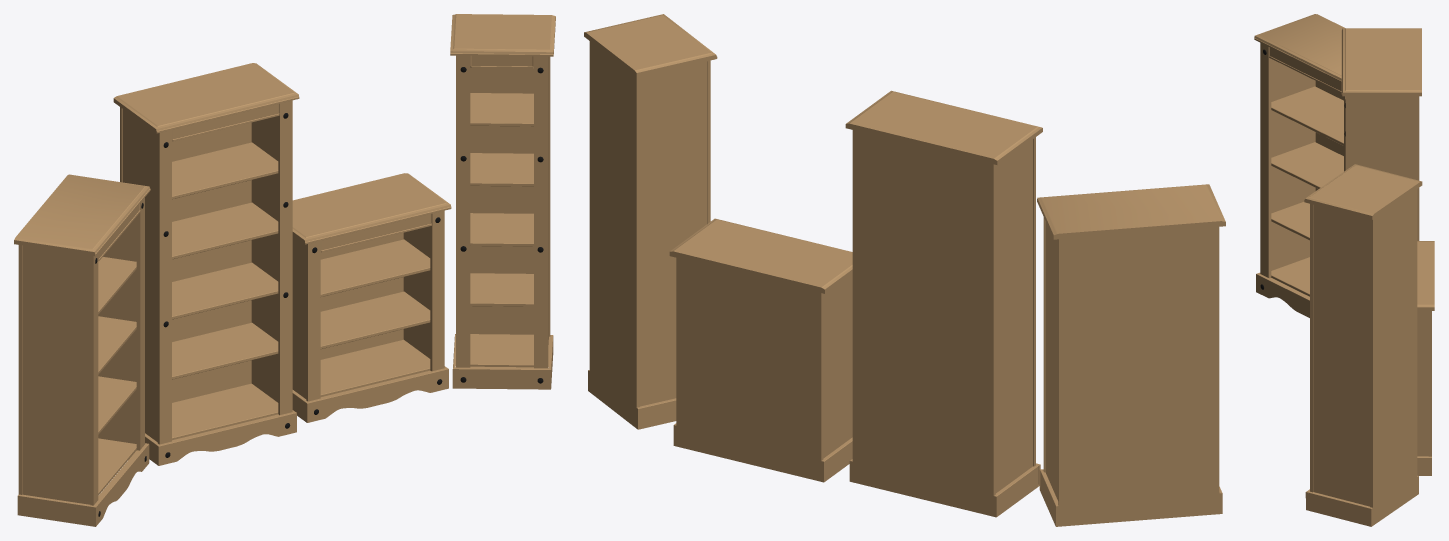
Rendered from Corona_Bookcase_Set.fbx.
The picture shows the model from 3 angles, left to right: view 1: azimuth 30°, elevation 25°; view 2: azimuth 150°, elevation 25°; view 3: azimuth 270°, elevation 25°; orthographic projection. The views are drawn at different scales.
Visible parts, largest first — view 1: Corona_Seconique Tall Bookcase.003, Corona_Medium Bookcase.003, Corona_Seconique Tall Bookcase.002, Corona_Low Bookcase.002; view 2: Corona_Seconique Tall Bookcase.003, Corona_Medium Bookcase.003, Corona_Seconique Tall Bookcase.002, Corona_Low Bookcase.002; view 3: Corona_Seconique Tall Bookcase.002, Corona_Medium Bookcase.003, Corona_Seconique Tall Bookcase.003, Corona_Low Bookcase.002.
Part boxes in pixels (bbox=[...]): Corona_Seconique Tall Bookcase.003: bbox=[113, 63, 299, 465]; Corona_Medium Bookcase.003: bbox=[14, 174, 150, 526]; Corona_Seconique Tall Bookcase.002: bbox=[450, 14, 555, 389]; Corona_Low Bookcase.002: bbox=[292, 173, 451, 422]; Corona_Seconique Tall Bookcase.003: bbox=[845, 90, 1042, 517]; Corona_Medium Bookcase.003: bbox=[1037, 184, 1225, 526]; Corona_Seconique Tall Bookcase.002: bbox=[584, 14, 717, 429]; Corona_Low Bookcase.002: bbox=[669, 218, 852, 482]; Corona_Seconique Tall Bookcase.002: bbox=[1304, 164, 1422, 526]; Corona_Medium Bookcase.003: bbox=[1254, 14, 1345, 317]; Corona_Seconique Tall Bookcase.003: bbox=[1341, 28, 1421, 240]; Corona_Low Bookcase.002: bbox=[1417, 241, 1434, 475].
Size of the model in its own units: 324 by 183 by 95.47.
